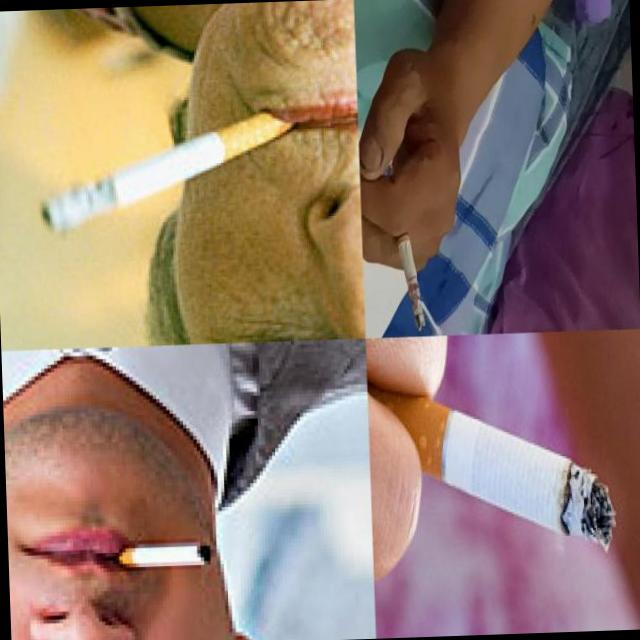smoke: (32, 107, 302, 236), (416, 392, 618, 564), (389, 208, 426, 334), (115, 542, 210, 574)
